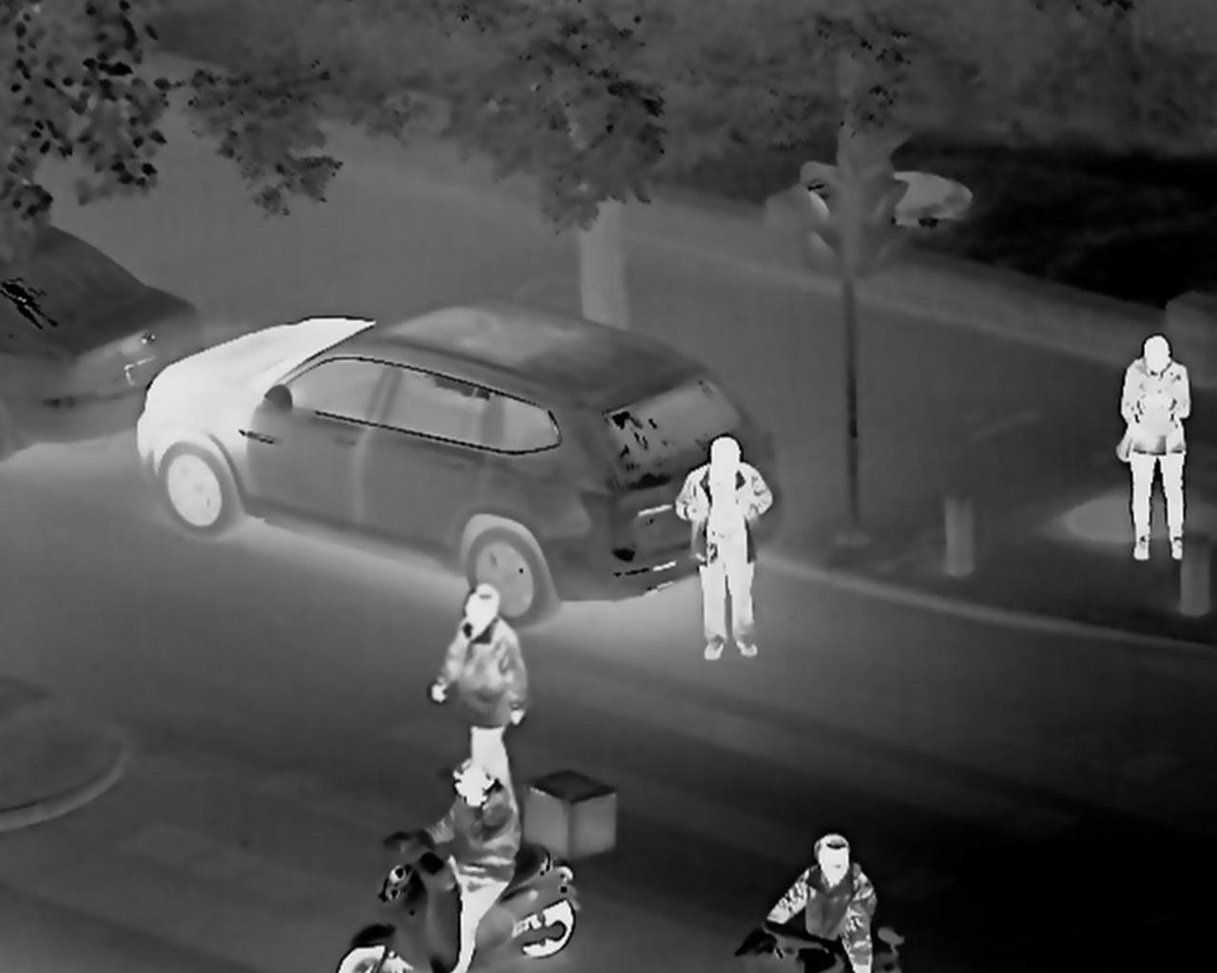person: (673, 441, 766, 656), (443, 583, 549, 762), (427, 771, 531, 949), (1127, 319, 1203, 557), (788, 844, 883, 973)
